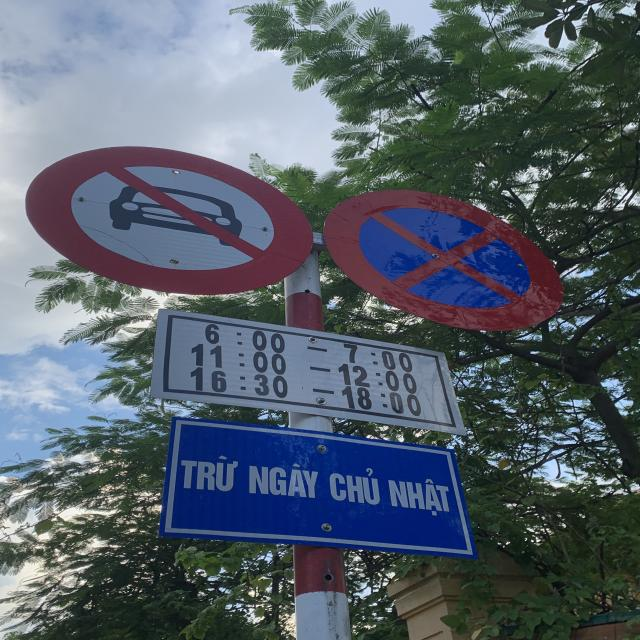Cam_Dung_Va_Dau_Xe: (322, 186, 564, 332)
Cam_O_To: (26, 146, 312, 296)
